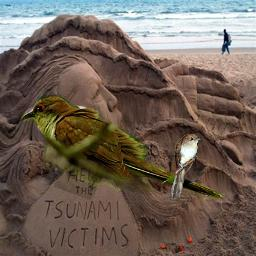Cuckoo: (20, 94, 225, 201), (170, 133, 202, 200)
